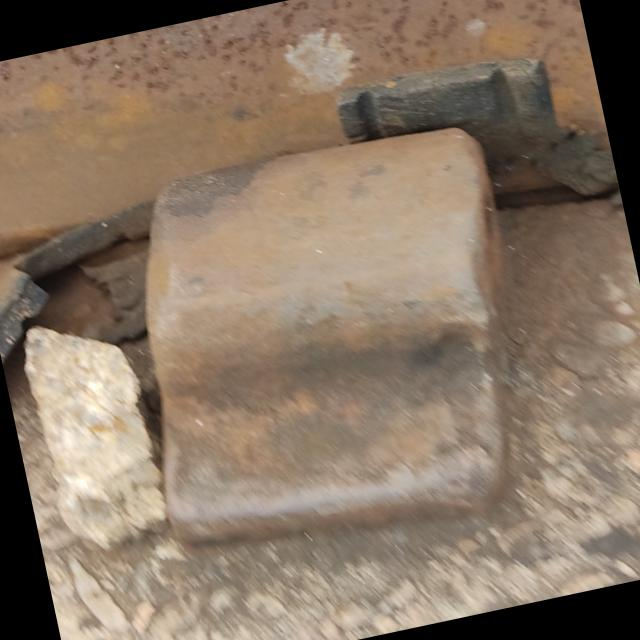track_bolt_missing: (108, 104, 538, 464)
